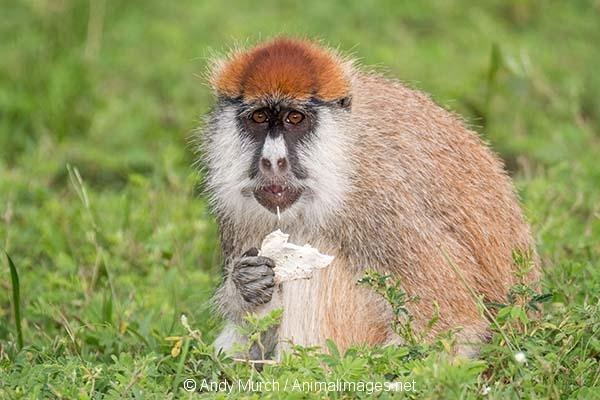monkey: (190, 36, 527, 353)
